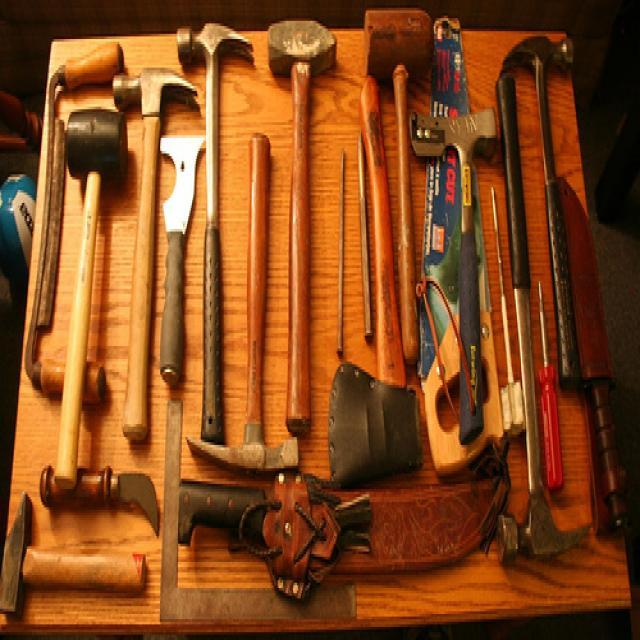hammer: (485, 68, 603, 576), (496, 20, 602, 390), (110, 59, 203, 457), (172, 18, 256, 452), (52, 104, 136, 506), (265, 12, 343, 440), (358, 0, 439, 378), (0, 480, 154, 634)
screwdriver: (524, 271, 568, 508)
